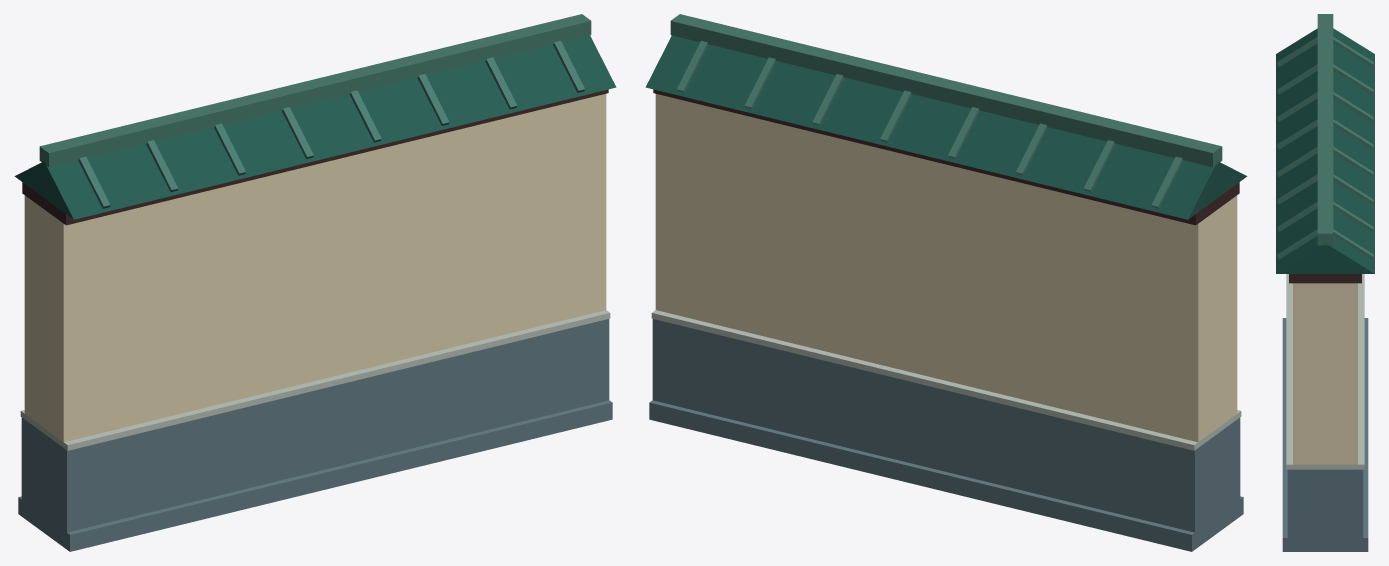
The model's file is wall_section_4m.glb.
The picture shows the model from 3 angles, left to right: view 1: azimuth 30°, elevation 25°; view 2: azimuth 150°, elevation 25°; view 3: azimuth 270°, elevation 25°; orthographic projection. The views are drawn at different scales.
Visible parts, largest first — view 1: WallSection4M / Plaster, WallSection4M / Stone, WallSection4M / Jade, WallSection4M / TileLight, WallSection4M / Coping, WallSection4M / Timber; view 2: WallSection4M / Plaster, WallSection4M / Stone, WallSection4M / Jade, WallSection4M / TileLight, WallSection4M / Coping, WallSection4M / Timber; view 3: WallSection4M / Jade, WallSection4M / Plaster, WallSection4M / Stone, WallSection4M / TileLight, WallSection4M / Coping, WallSection4M / Timber.
Boxes of the visible parts, box(x1,y1,x2,y2) form: WallSection4M / Plaster: box(24, 94, 606, 442); WallSection4M / Stone: box(18, 319, 612, 551); WallSection4M / Jade: box(14, 35, 616, 219); WallSection4M / TileLight: box(39, 14, 591, 208); WallSection4M / Coping: box(20, 310, 610, 450); WallSection4M / Timber: box(22, 89, 608, 225); WallSection4M / Plaster: box(655, 94, 1237, 442); WallSection4M / Stone: box(649, 319, 1243, 551); WallSection4M / Jade: box(645, 35, 1247, 219); WallSection4M / TileLight: box(670, 14, 1222, 208); WallSection4M / Coping: box(651, 310, 1241, 450); WallSection4M / Timber: box(653, 89, 1239, 225); WallSection4M / Jade: box(1276, 28, 1374, 273); WallSection4M / Plaster: box(1293, 283, 1357, 464); WallSection4M / Stone: box(1282, 318, 1368, 551); WallSection4M / TileLight: box(1277, 14, 1373, 259); WallSection4M / Coping: box(1286, 274, 1364, 469); WallSection4M / Timber: box(1289, 274, 1361, 283).
Size of the model in its own units: 4 by 2.7 by 0.76.
